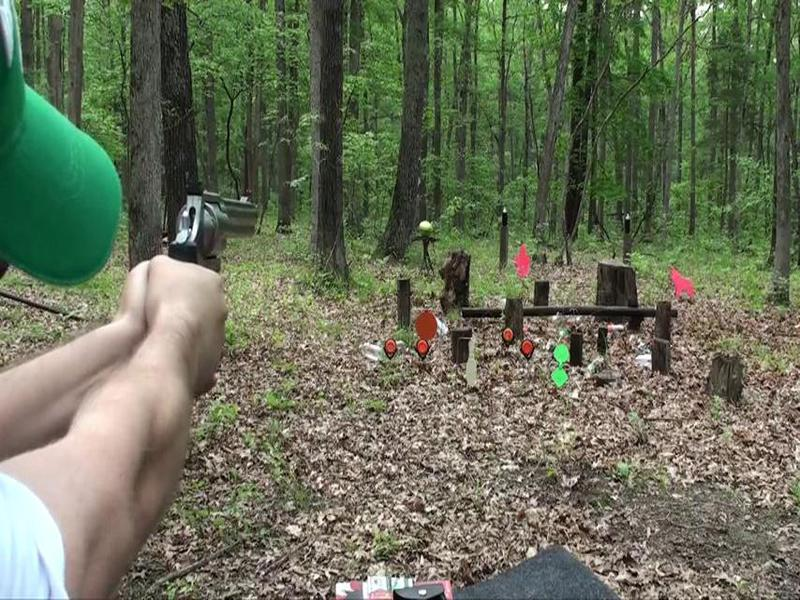Revolver: (145, 177, 278, 309)
